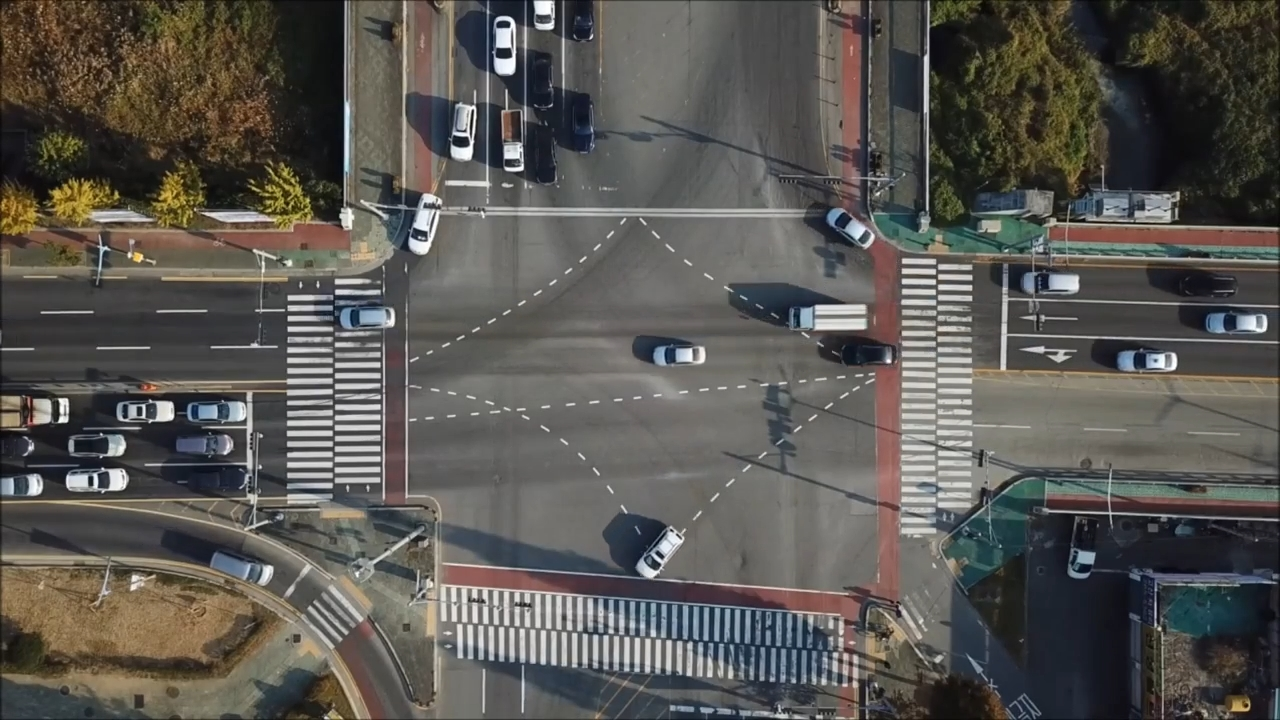car: (630, 524, 685, 581), (205, 545, 273, 589), (406, 191, 442, 254), (789, 304, 871, 331), (825, 206, 875, 250), (1, 396, 70, 426), (1067, 515, 1097, 580), (186, 463, 248, 494), (448, 100, 478, 162), (1021, 268, 1081, 297), (491, 13, 518, 77), (1176, 271, 1237, 298), (65, 467, 130, 492), (534, 124, 559, 189), (1207, 309, 1267, 336), (338, 304, 395, 331), (532, 50, 556, 114), (840, 341, 898, 367), (1116, 348, 1178, 372), (500, 109, 524, 171), (571, 91, 595, 153), (115, 401, 177, 424), (176, 432, 234, 455), (68, 435, 125, 458), (187, 402, 246, 423), (652, 344, 706, 366), (571, 1, 595, 43), (1, 474, 45, 495), (533, 1, 559, 32), (1, 435, 33, 455)
